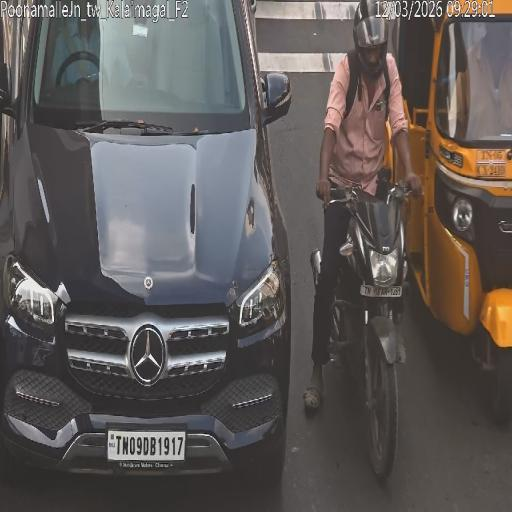person_with_seatbelt: (57, 20, 92, 84)
